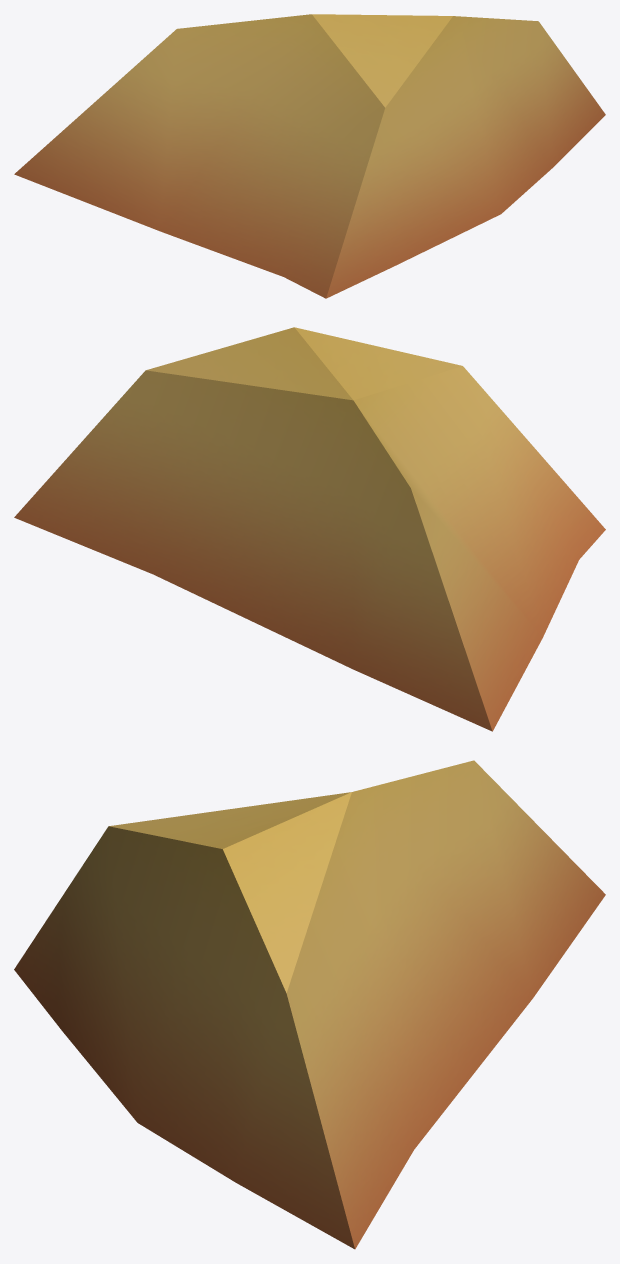
Rendered from Canyon_Stone_015.FBX.
The picture shows the model from 3 angles, top to bottom: view 1: azimuth 30°, elevation 25°; view 2: azimuth 150°, elevation 25°; view 3: azimuth 270°, elevation 25°; orthographic projection. The views are drawn at different scales.
Parts seen in each view (by area): view 1: Canyon_Stone_015; view 2: Canyon_Stone_015; view 3: Canyon_Stone_015.
Part boxes in pixels (x1=…): Canyon_Stone_015: x1=14, y1=14, x2=605, y2=298; Canyon_Stone_015: x1=14, y1=327, x2=605, y2=731; Canyon_Stone_015: x1=14, y1=760, x2=605, y2=1249.
Bounding box in the file's own units: 147 × 50.47 × 104.
1 material, 1 textured.
